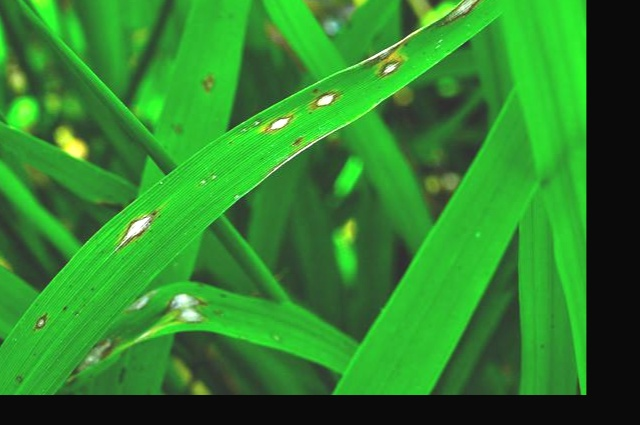Brown_Spot: (115, 205, 160, 244), (433, 0, 488, 25), (263, 102, 292, 136), (374, 46, 406, 76), (311, 85, 348, 110)
